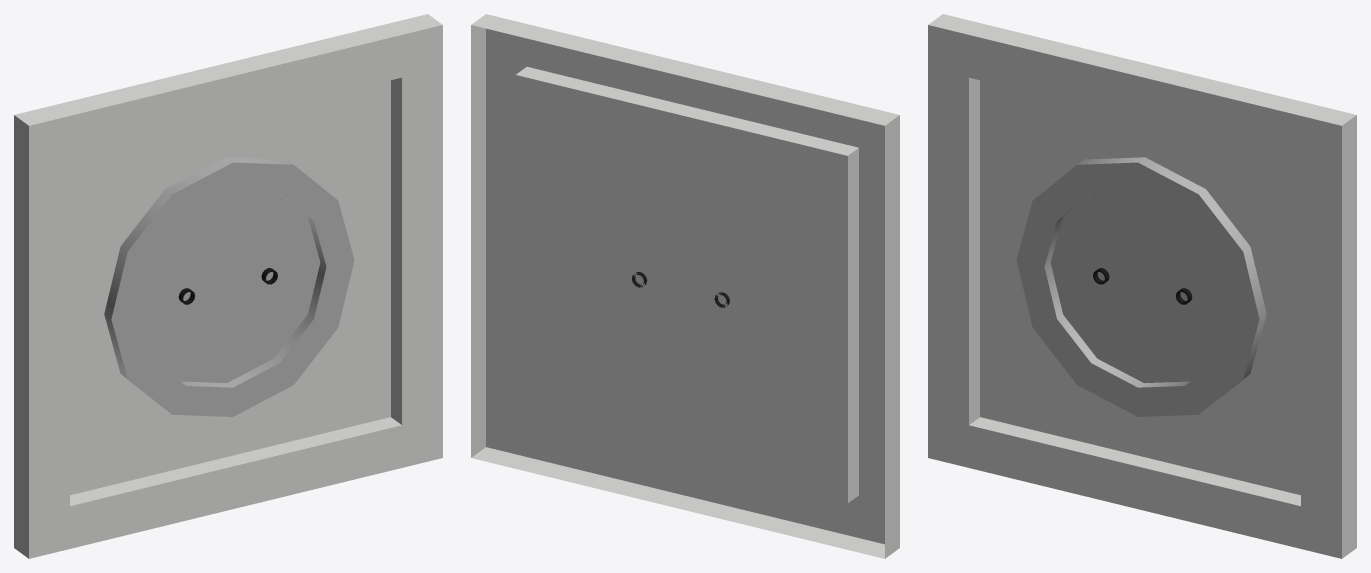
The model's file is Socket.fbx.
The picture shows the model from 3 angles, left to right: view 1: azimuth 30°, elevation 25°; view 2: azimuth 150°, elevation 25°; view 3: azimuth 330°, elevation 25°; orthographic projection.
Parts seen in each view (by area): view 1: Socket; view 2: Socket; view 3: Socket.
Part boxes in pixels (box(x1,y1,x2,y2)): Socket: box(14, 14, 442, 558); Socket: box(471, 14, 899, 558); Socket: box(928, 14, 1356, 558).
Size of the model in its own units: 8 by 8 by 0.5.
